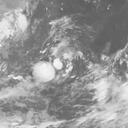cyclone: (32, 60, 56, 84)
